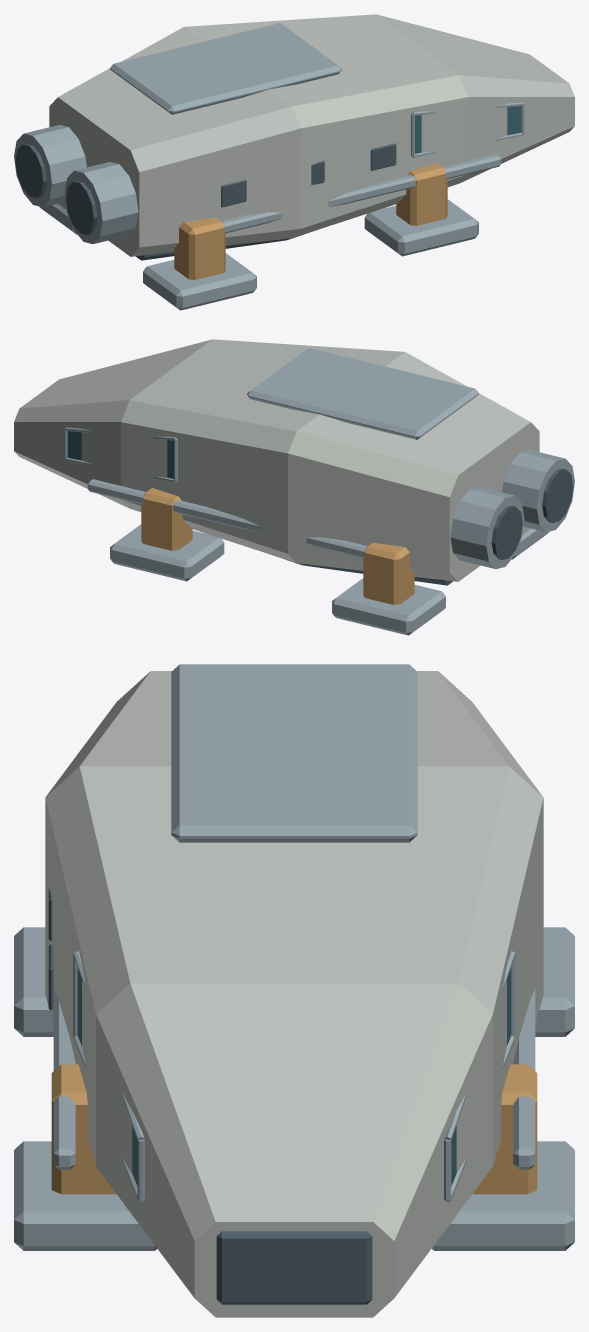
Rendered from maintenance-shuttle-v4.glb.
3 views of the same model, one above another, from view 1: azimuth 30°, elevation 25°; view 2: azimuth 150°, elevation 25°; view 3: azimuth 270°, elevation 25° (orthographic). The views are drawn at different scales.
Parts seen in each view (by area): view 1: site-wall.002, site-trim.002, site-orange.002, site-dark.002, site-glass.002; view 2: site-wall.002, site-trim.002, site-orange.002, site-dark.002, site-glass.002; view 3: site-wall.002, site-trim.002, site-dark.002, site-orange.002, site-glass.002.
Part boxes in pixels (x1,y1,x2,y2): site-wall.002: (49,14,574,256); site-trim.002: (14,23,524,310); site-orange.002: (174,163,447,279); site-dark.002: (15,143,396,260); site-glass.002: (415,106,521,153); site-wall.002: (14,339,539,581); site-trim.002: (64,348,574,635); site-orange.002: (141,488,414,604); site-dark.002: (285,468,573,585); site-glass.002: (67,431,173,478); site-wall.002: (45,671,543,1317); site-trim.002: (14,664,574,1250); site-dark.002: (48,888,372,1304); site-orange.002: (51,1064,537,1194); site-glass.002: (77,968,511,1185).
Size of the model in its own units: 8.3 by 2.68 by 4.1.
